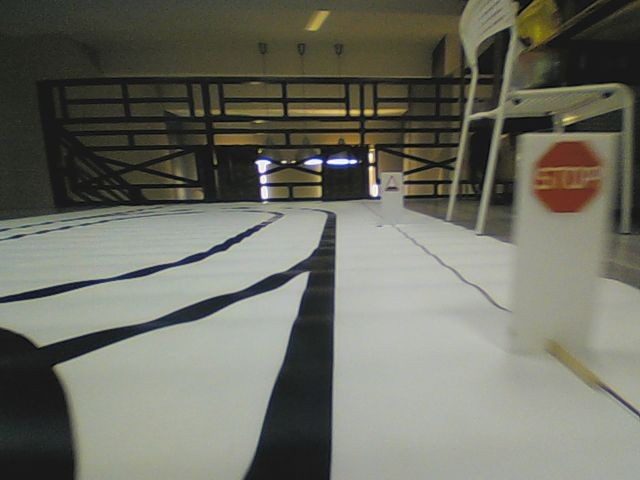Stop: (532, 137, 602, 216)
